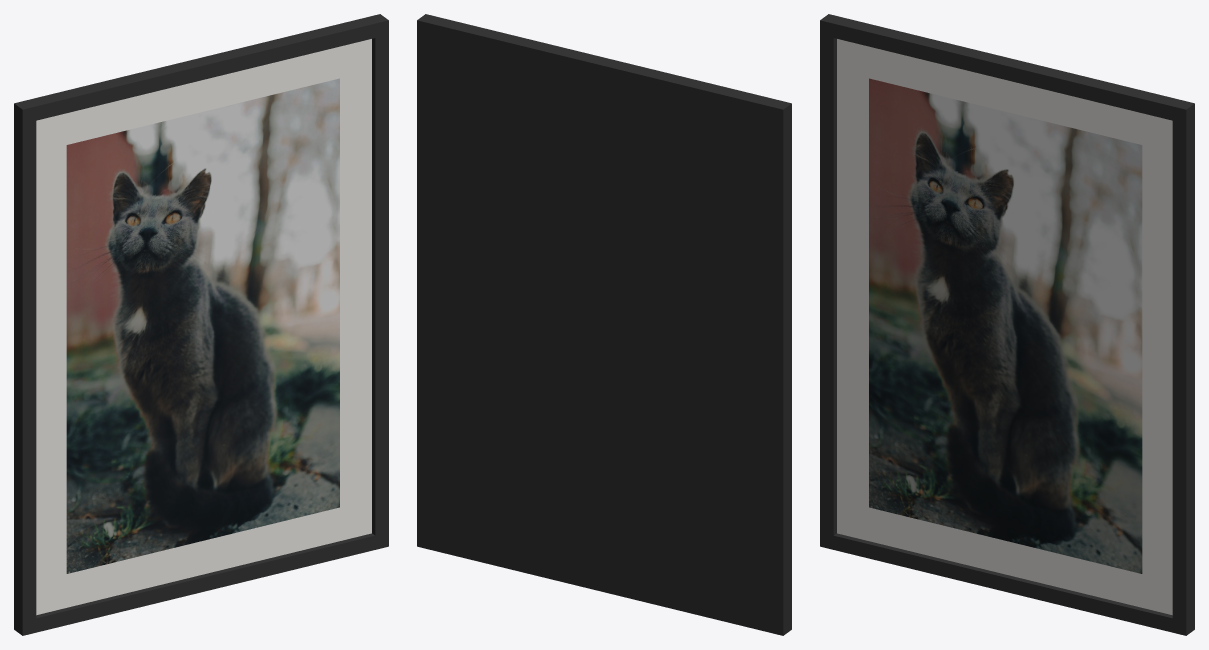
The model's file is katten-60.gltf.
3 views of the same model, side by side, from view 1: azimuth 30°, elevation 25°; view 2: azimuth 150°, elevation 25°; view 3: azimuth 330°, elevation 25° (orthographic).
Visible parts, largest first — view 1: tavla; view 2: tavla; view 3: tavla.
Part boxes in pixels (x1,y1,x2,y2): tavla: (14,14,388,635); tavla: (417,14,791,635); tavla: (820,14,1194,635).
Bounding box in the file's own units: 0.536 × 0.736 × 0.022.
3 materials, 1 textured.
